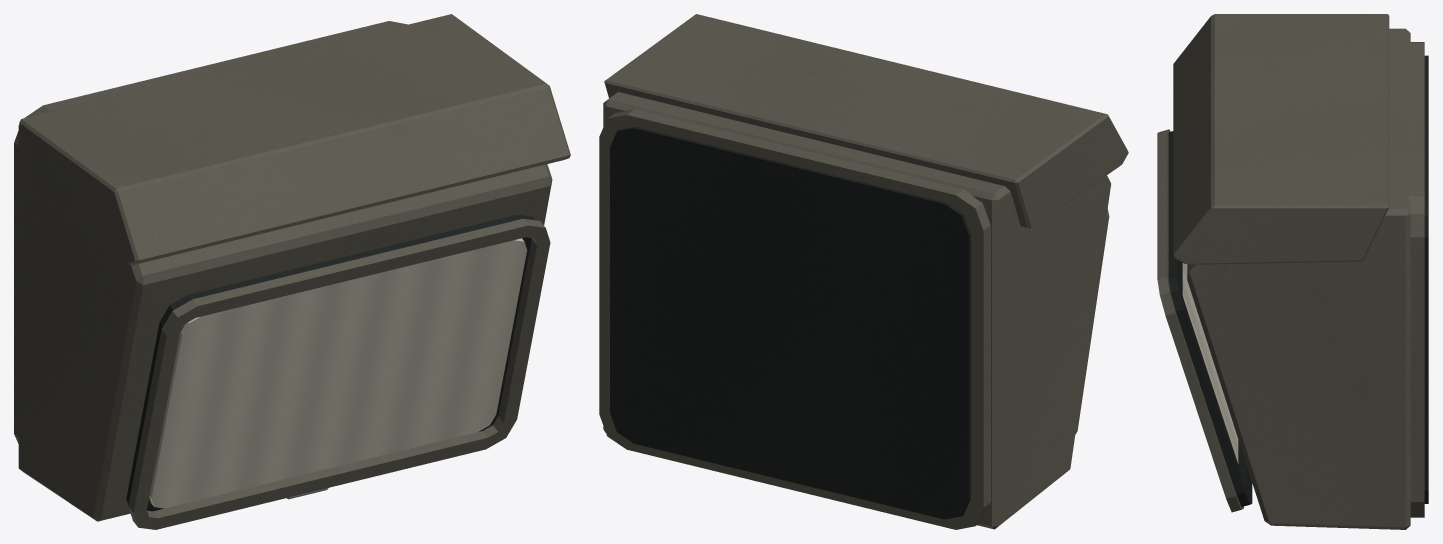
File: SM_Exterior_WallPack_LOD2.fbx
The picture shows the model from 3 angles, left to right: view 1: azimuth 30°, elevation 25°; view 2: azimuth 150°, elevation 25°; view 3: azimuth 270°, elevation 25°; orthographic projection. The views are drawn at different scales.
Visible parts, largest first — view 1: SM_Exterior_WallPack_LOD2; view 2: SM_Exterior_WallPack_LOD2; view 3: SM_Exterior_WallPack_LOD2.
Part boxes in pixels (x1,y1,x2,y2): SM_Exterior_WallPack_LOD2: (14,14,570,529); SM_Exterior_WallPack_LOD2: (599,14,1128,529); SM_Exterior_WallPack_LOD2: (1157,14,1428,529).
Bounding box in the file's own units: 0.36 × 0.2134 × 0.297.
